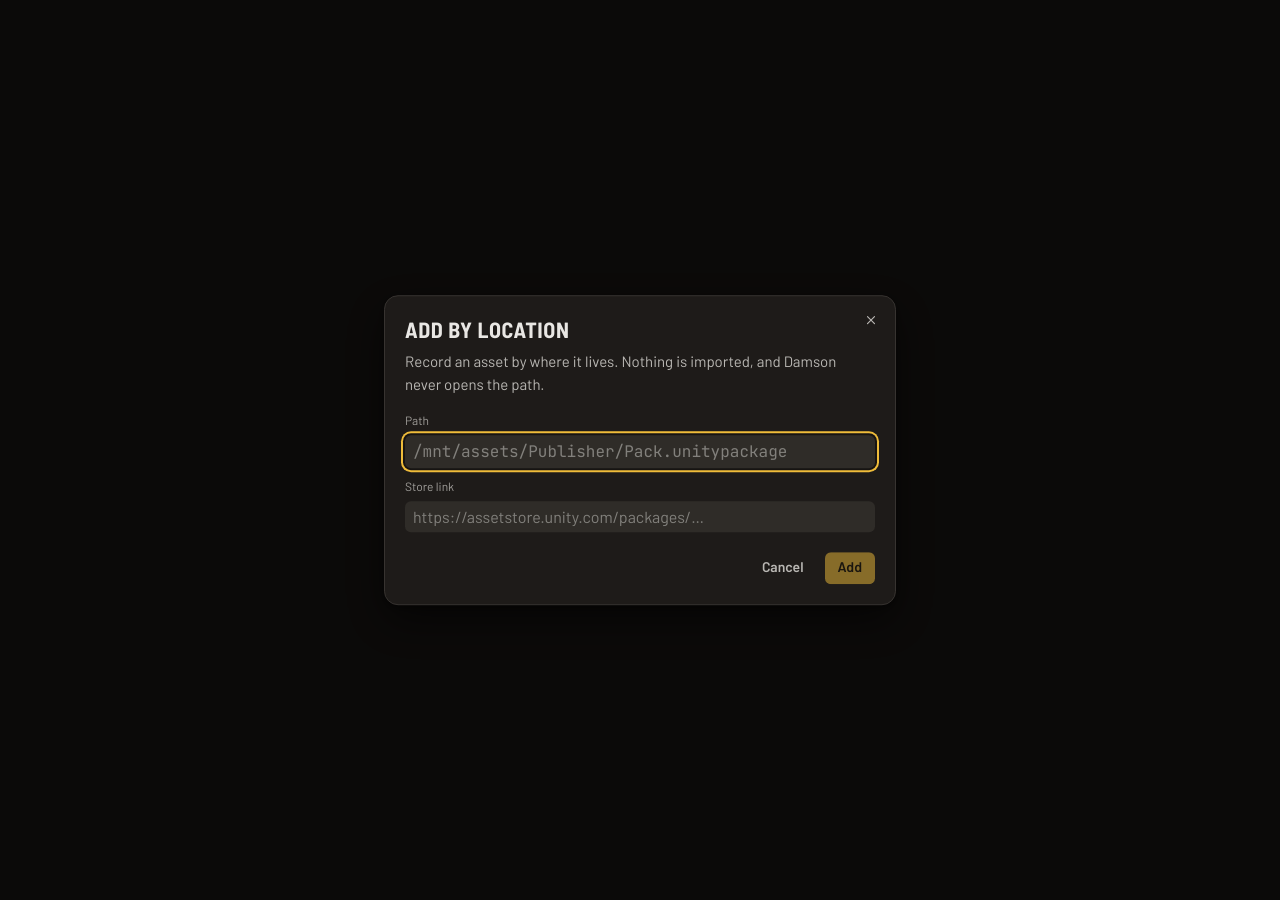
AddByLocationDialog › stops requiring a name once the path changes
Type "/" into the field labelled "Path".
click(640, 452); type("/")  # box left=413, top=441, right=867, bottom=462
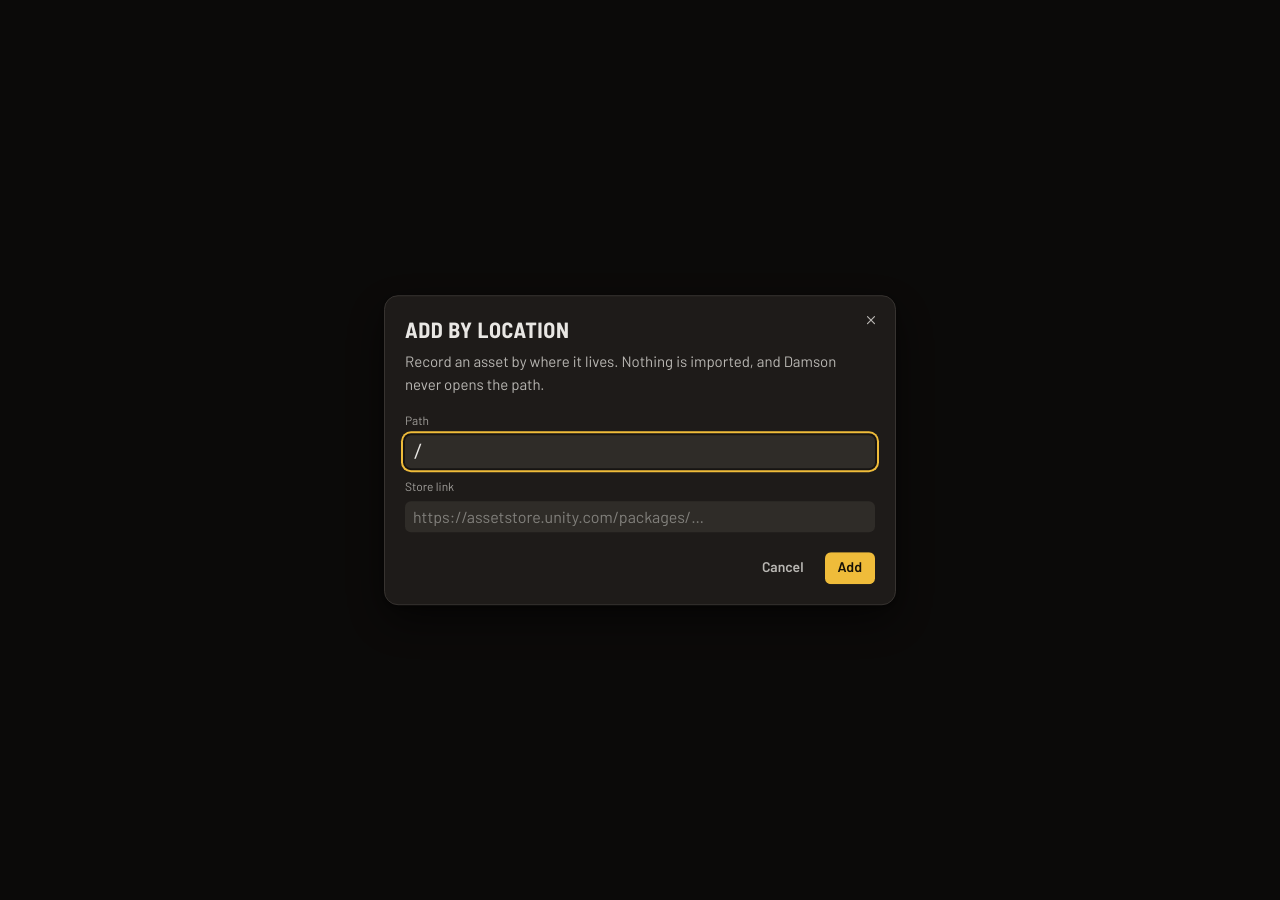
Click the button "Add".
click(850, 568)  # box left=824, top=552, right=875, bottom=584
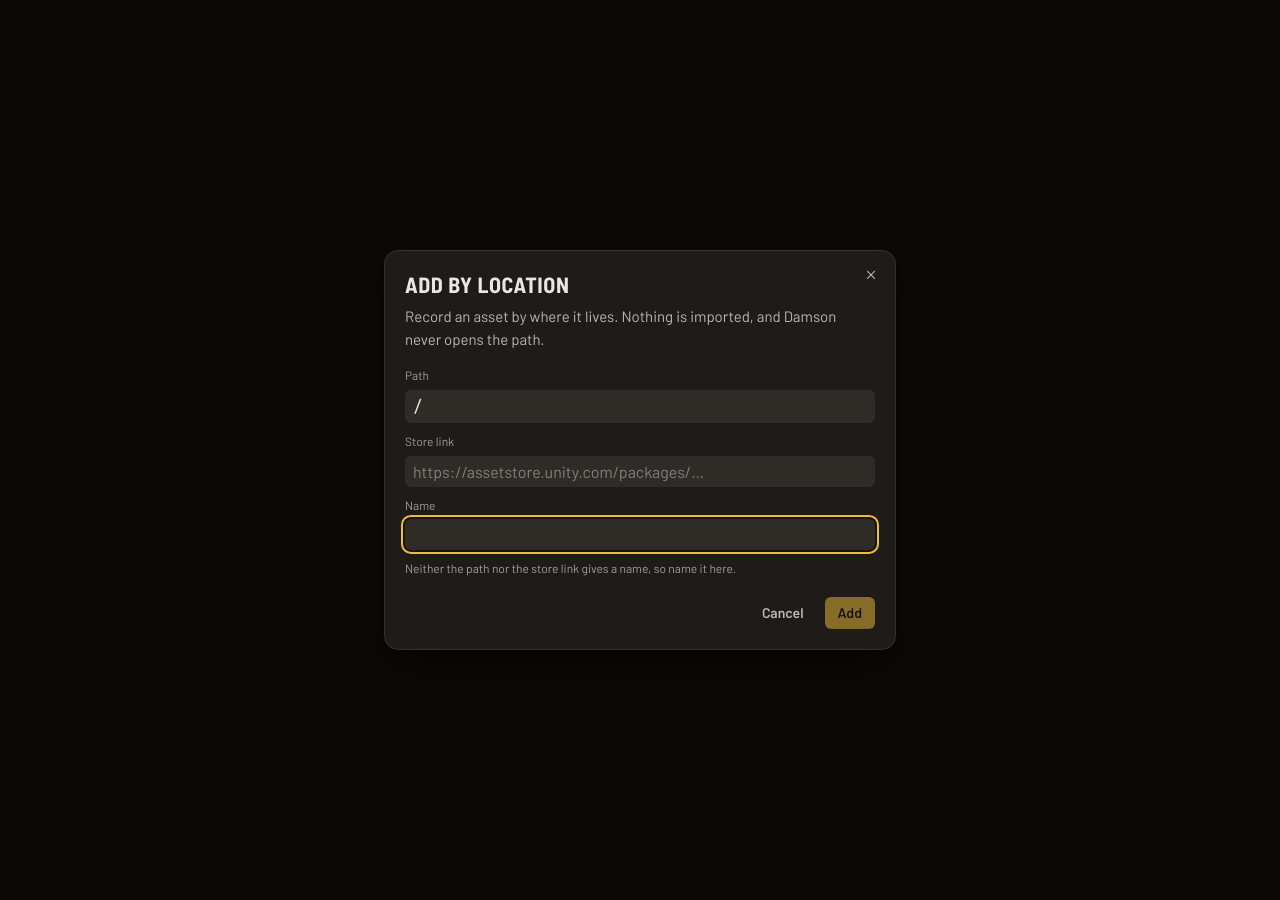
Replace the text in the field labelled "Path" with "/mnt/nfs/Pack" at (640, 406), box left=413, top=396, right=867, bottom=417
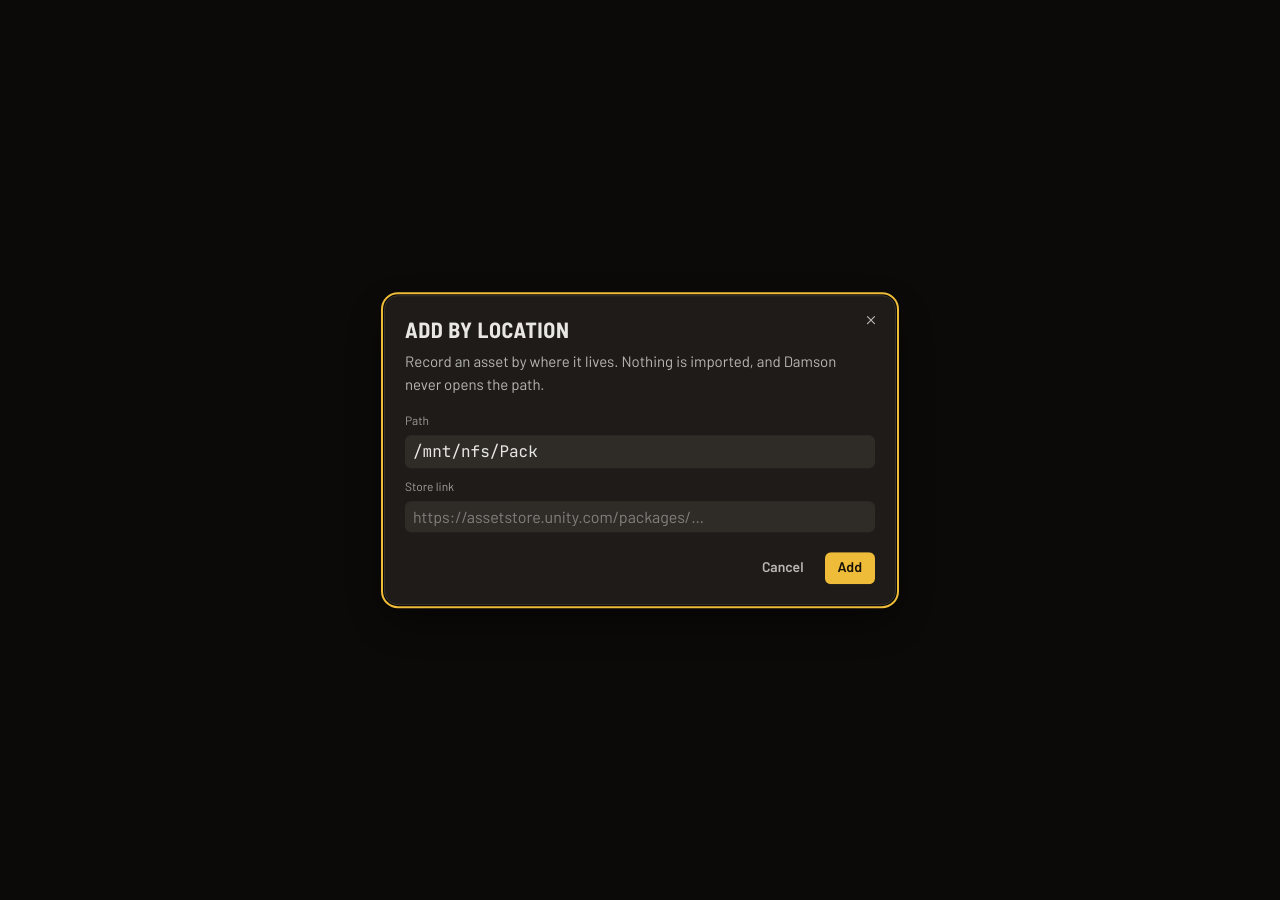
Result: the label labelled "Name" is gone
Result: the button "Add" is enabled at left=824, top=552, right=875, bottom=584
